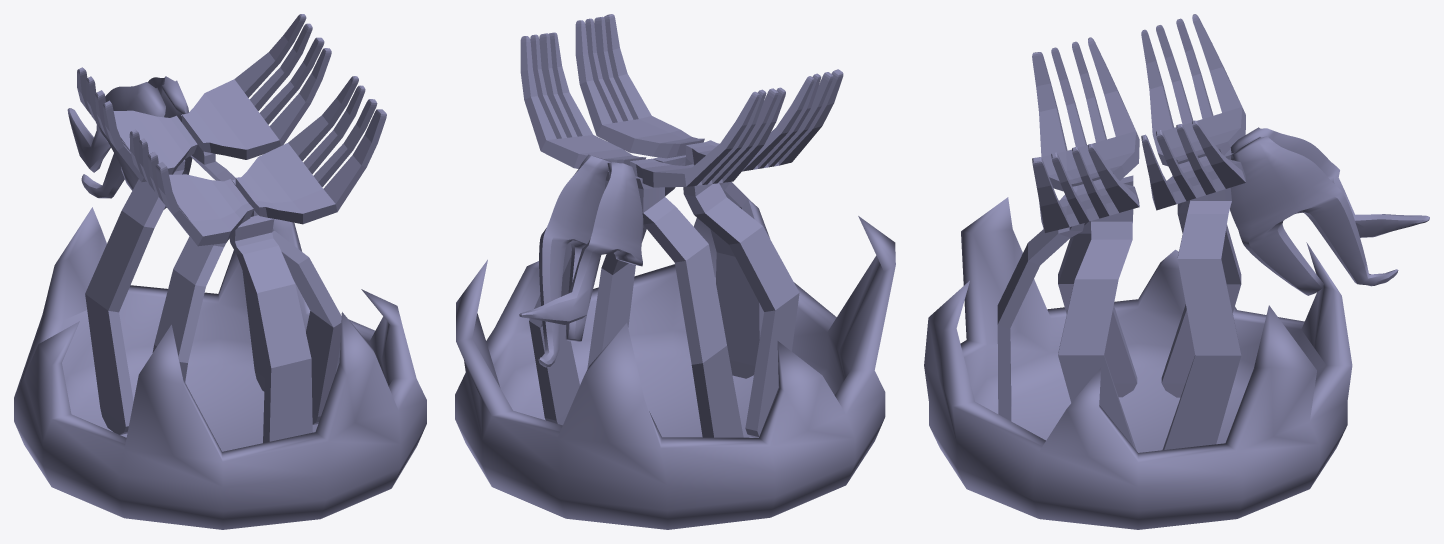
The model's file is CavaloTalher.fbx.
3 views of the same model, side by side, from view 1: azimuth 30°, elevation 25°; view 2: azimuth 150°, elevation 25°; view 3: azimuth 270°, elevation 25° (orthographic). The views are drawn at different scales.
Visible parts, largest first — view 1: cbç; view 2: cbç; view 3: cbç.
Part boxes in pixels (x1,y1,x2,y2): cbç: [14, 14, 426, 529]; cbç: [455, 14, 895, 529]; cbç: [924, 14, 1429, 529].
Size of the model in its own units: 364 by 377 by 454.
